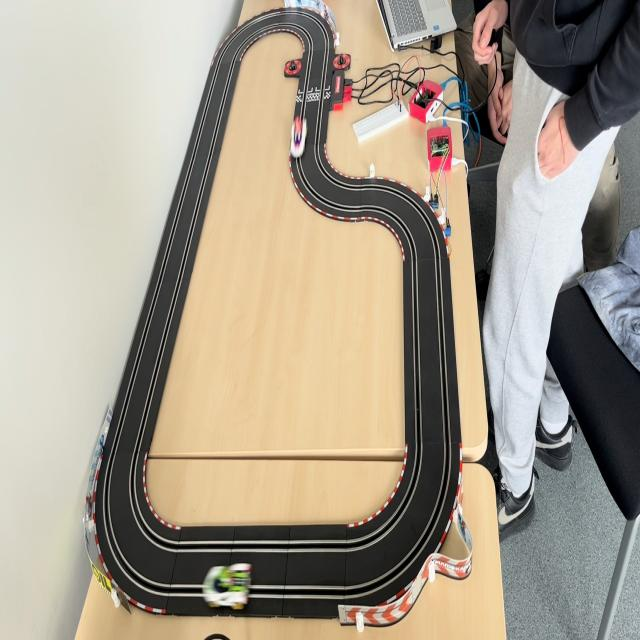mario: (289, 116, 307, 161)
yoshi: (200, 560, 256, 608)
